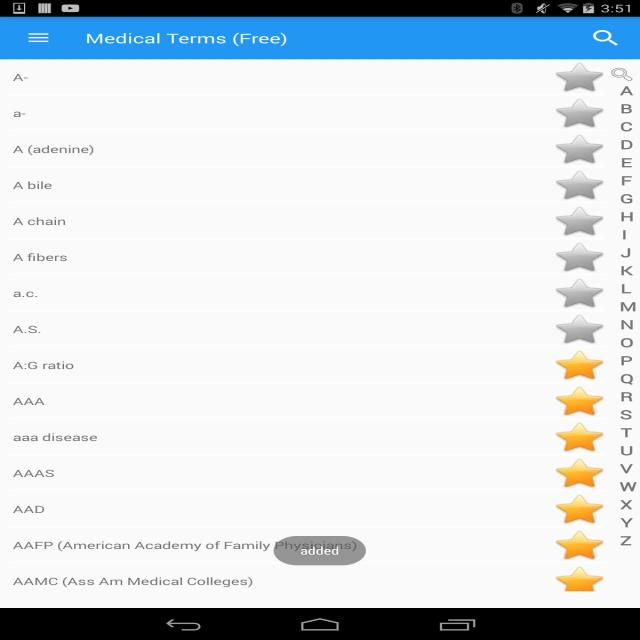button: (544, 132, 618, 170), (545, 95, 612, 132), (544, 58, 610, 95), (549, 348, 613, 386), (550, 277, 615, 312), (548, 314, 614, 348), (553, 528, 615, 564), (546, 173, 615, 205), (552, 492, 612, 528), (552, 456, 614, 490), (553, 421, 613, 456), (553, 241, 608, 278), (554, 386, 610, 419), (553, 566, 616, 595), (552, 208, 609, 240), (587, 28, 622, 52), (25, 29, 53, 47)
heading: (81, 33, 296, 51)
text: (3, 55, 539, 605), (616, 83, 640, 550)
